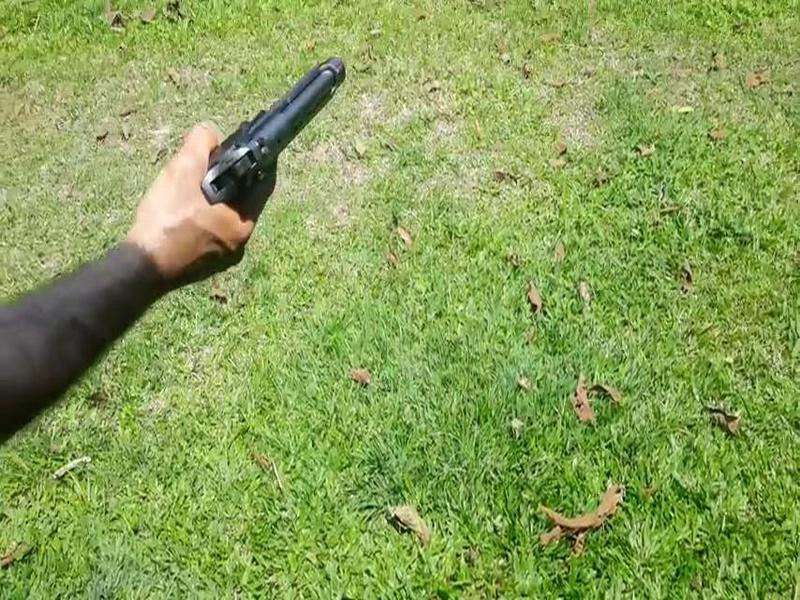Pistola: (189, 36, 359, 212)
